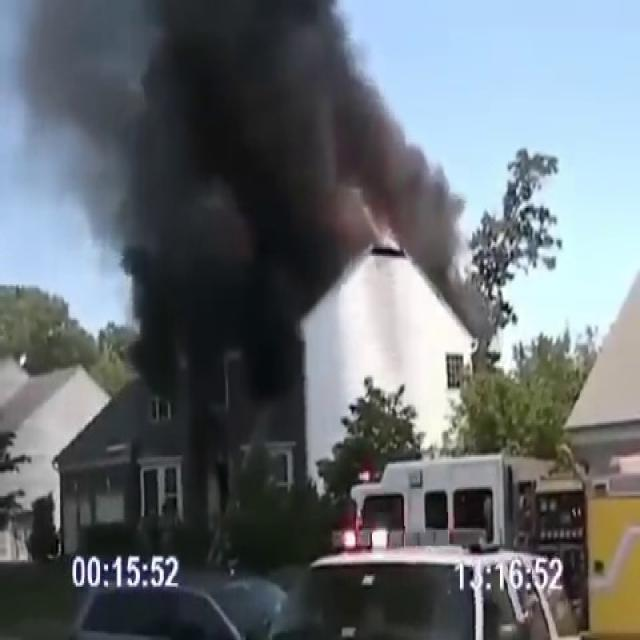Smoke: (2, 0, 474, 380)
